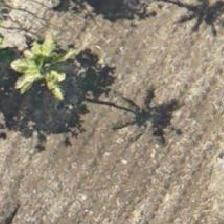coconut_tree: (0, 19, 88, 109)
